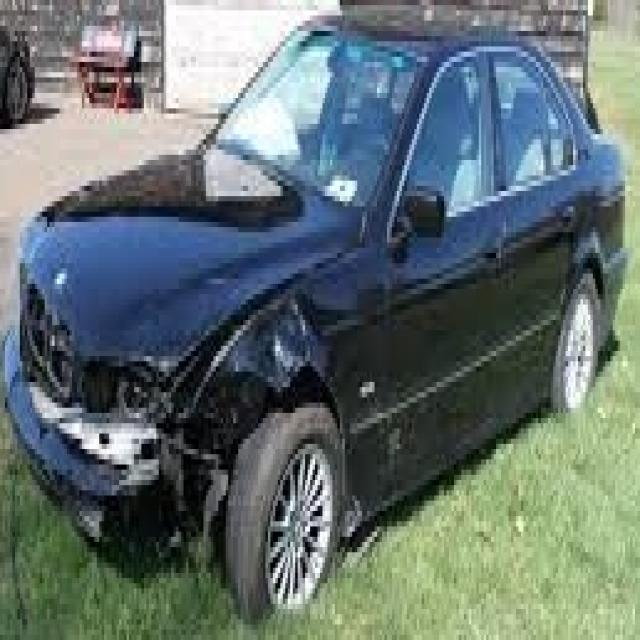severe: (23, 285, 346, 554)
